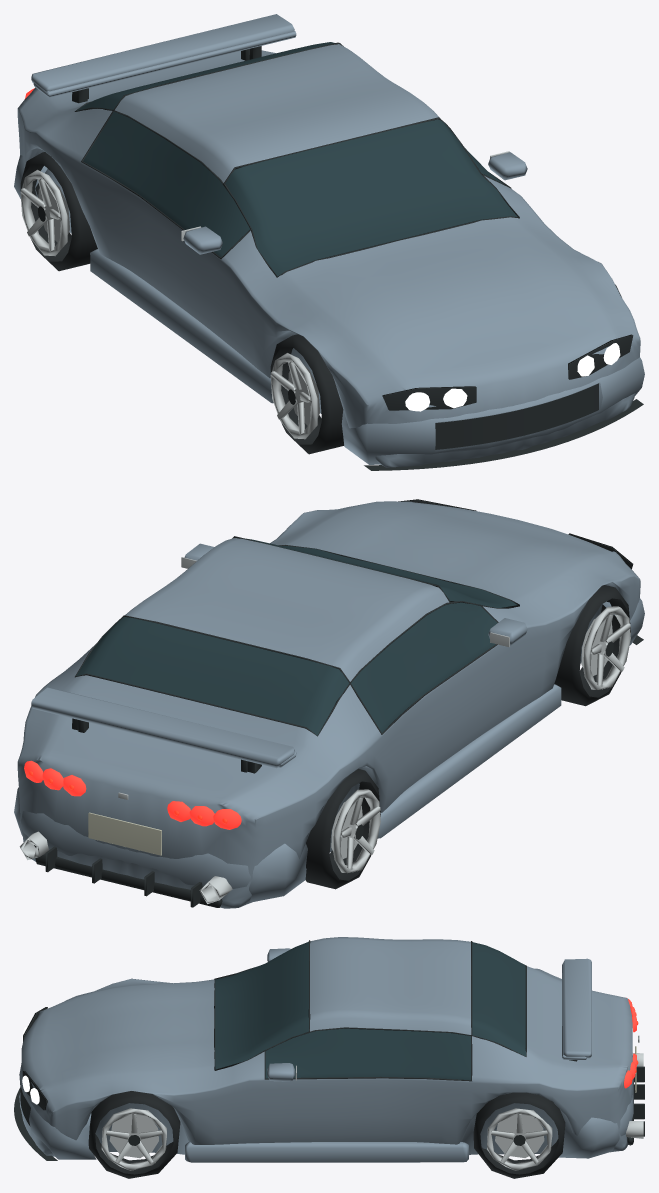
File: ystren-prael.glb
3 views of the same model, one above another, from view 1: azimuth 30°, elevation 25°; view 2: azimuth 150°, elevation 25°; view 3: azimuth 270°, elevation 25° (orthographic). The views are drawn at different scales.
Parts seen in each view (by area): view 1: cofano, scocca, cristallo_ant, tetto, porta_sx, cristallo_sx, paraurti_ant, spoiler, minigonna_sx, griglia, ruota_ant_sx_gomma, ruota_post_sx_gomma (+15 smaller); view 2: scocca, tetto, portellone, cofano, cristallo_post, porta_sx, cristallo_sx, paraurti_post, spoiler, minigonna_sx, ruota_post_sx_gomma, ruota_ant_sx_gomma (+12 smaller); view 3: scocca, cofano, tetto, porta_dx, cristallo_dx, cristallo_ant, portellone, minigonna_dx, cristallo_post, spoiler, ruota_ant_dx_gomma, ruota_post_dx_gomma (+13 smaller).
Part boxes in pixels (x1,y1,x2,y2): cofano: [277, 217, 615, 381]; scocca: [17, 90, 640, 467]; cristallo_ant: [225, 119, 517, 276]; tetto: [114, 44, 440, 182]; porta_sx: [81, 162, 236, 350]; cristallo_sx: [83, 111, 249, 256]; paraurti_ant: [341, 357, 644, 464]; spoiler: [31, 14, 294, 91]; minigonna_sx: [90, 249, 273, 403]; griglia: [435, 383, 598, 449]; ruota_ant_sx_gomma: [270, 334, 344, 454]; ruota_post_sx_gomma: [20, 152, 97, 271]; scocca: [17, 501, 640, 908]; tetto: [125, 538, 449, 681]; portellone: [33, 675, 317, 808]; cofano: [281, 501, 615, 605]; cristallo_post: [76, 617, 349, 735]; porta_sx: [376, 638, 521, 812]; cristallo_sx: [351, 602, 497, 732]; paraurti_post: [14, 787, 307, 902]; spoiler: [31, 687, 294, 768]; minigonna_sx: [377, 684, 561, 838]; ruota_post_sx_gomma: [305, 769, 380, 889]; ruota_ant_sx_gomma: [554, 585, 630, 706]; scocca: [21, 968, 632, 1156]; cofano: [44, 979, 214, 1090]; tetto: [310, 937, 471, 1034]; porta_dx: [249, 1078, 471, 1154]; cristallo_dx: [265, 1028, 470, 1080]; cristallo_ant: [215, 941, 308, 1069]; portellone: [526, 966, 632, 1073]; minigonna_dx: [185, 1142, 468, 1162]; cristallo_post: [472, 942, 525, 1056]; spoiler: [563, 958, 591, 1058]; ruota_ant_dx_gomma: [88, 1091, 180, 1178]; ruota_post_dx_gomma: [473, 1092, 565, 1178].
Bounding box in the file's own units: 2.15 × 1.2 × 4.62.
